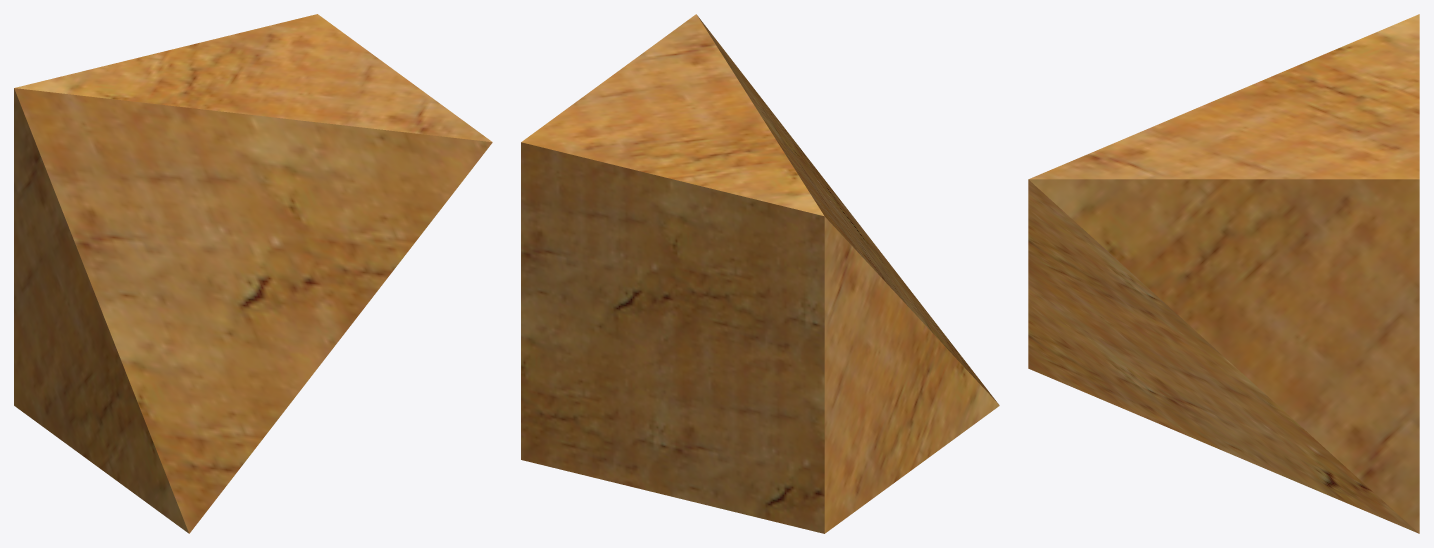
Rendered from block-ramp-two.glb.
3 views of the same model, side by side, from view 1: azimuth 30°, elevation 25°; view 2: azimuth 150°, elevation 25°; view 3: azimuth 270°, elevation 25° (orthographic). The views are drawn at different scales.
Parts seen in each view (by area): view 1: Block-Ramp-Two; view 2: Block-Ramp-Two; view 3: Block-Ramp-Two.
Boxes of the visible parts, x1=… form: Block-Ramp-Two: x1=14, y1=14, x2=492, y2=533; Block-Ramp-Two: x1=521, y1=14, x2=999, y2=533; Block-Ramp-Two: x1=1028, y1=14, x2=1419, y2=533.
Bounding box in the file's own units: 2 × 2 × 2.
Materials: 1 (1 with a texture image).
